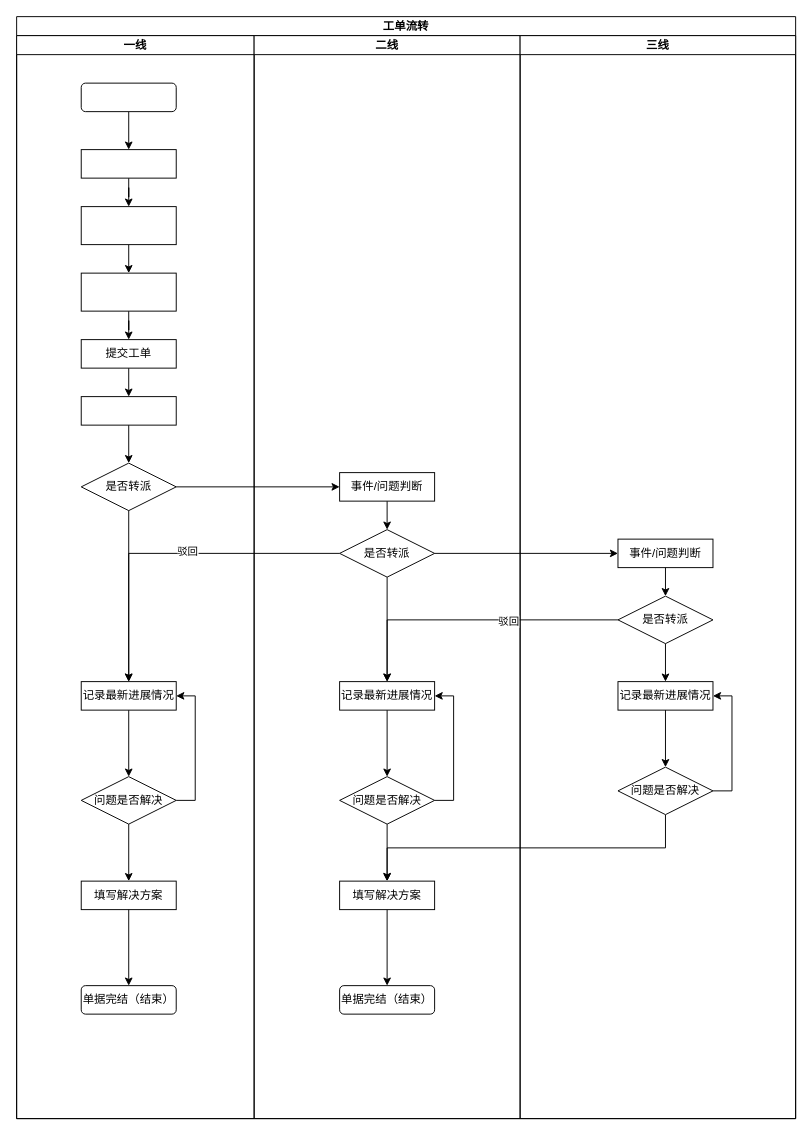
This 812x1135 diagram has some shape labels left out. The shapes that lost their labels are listed below. From the top down, each one's centre as x and y in pixels, then its label:
the point at 128,97: 发起工单请求
the point at 128,163: 选择项目
the point at 128,225: 选择产品类型 及问题分类
the point at 128,291: 填写工单 字段信息
the point at 128,410: 工单受理
